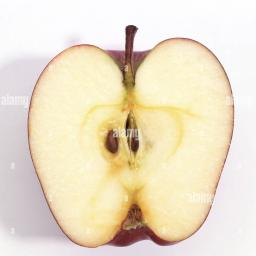apple: (20, 17, 233, 248), (38, 17, 39, 18)
